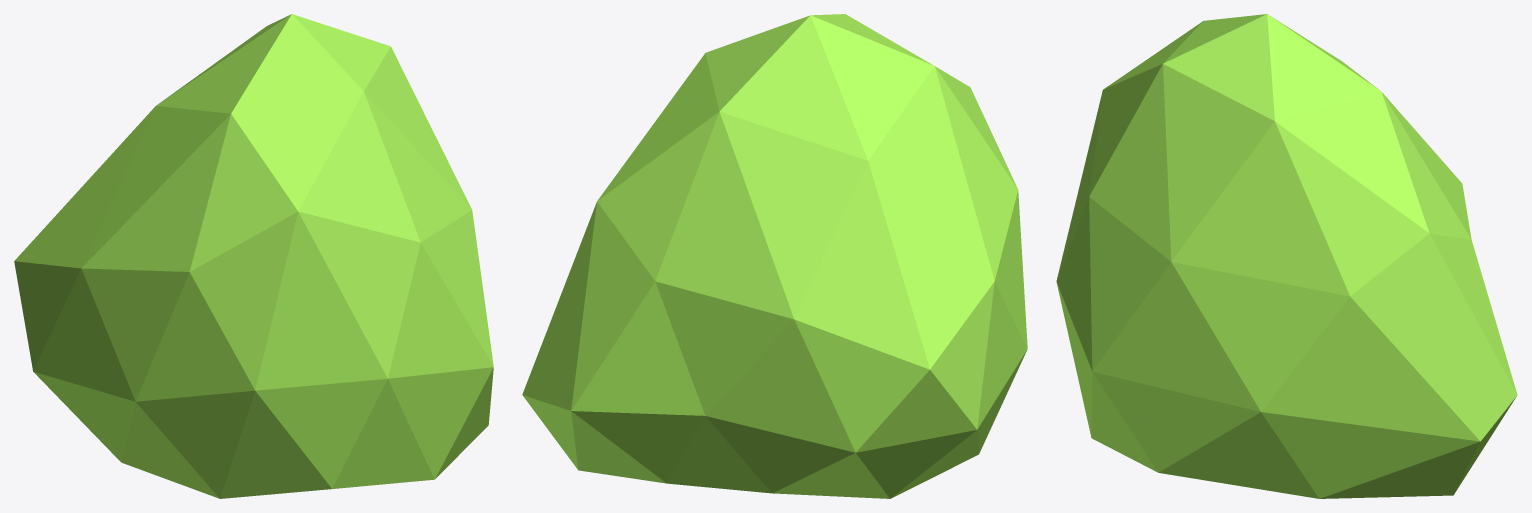
File: BigBush.fbx
The picture shows the model from 3 angles, left to right: view 1: azimuth 30°, elevation 25°; view 2: azimuth 150°, elevation 25°; view 3: azimuth 270°, elevation 25°; orthographic projection. The views are drawn at different scales.
Parts seen in each view (by area): view 1: Bush1; view 2: Bush1; view 3: Bush1.
Boxes of the visible parts, x1=… form: Bush1: x1=14, y1=14, x2=493, y2=498; Bush1: x1=522, y1=14, x2=1027, y2=498; Bush1: x1=1056, y1=14, x2=1517, y2=498.
Size of the model in its own units: 1.28 by 1.33 by 1.32.
